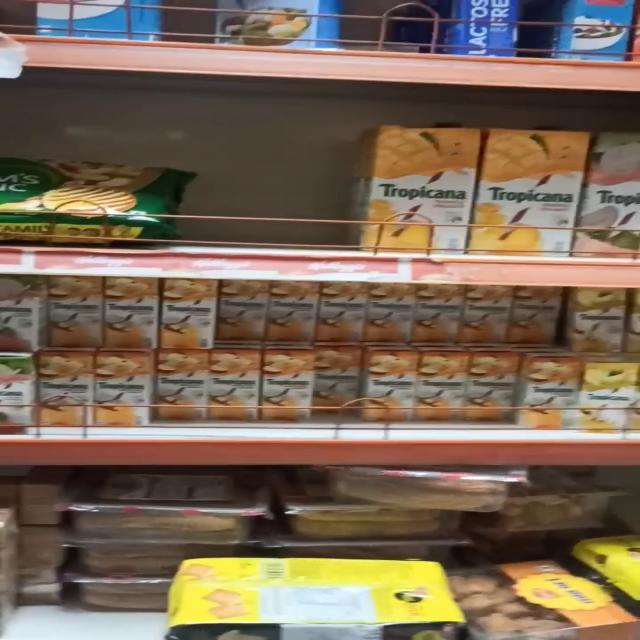Tropicana: (360, 119, 482, 254), (472, 118, 583, 262), (35, 352, 94, 426), (260, 276, 318, 348), (160, 277, 217, 349), (41, 278, 101, 344), (96, 353, 150, 426), (156, 352, 211, 422), (365, 348, 418, 419), (104, 278, 156, 350), (417, 350, 470, 420), (260, 354, 318, 416), (502, 286, 558, 349), (308, 348, 364, 411), (530, 358, 584, 423), (214, 277, 269, 340), (586, 361, 636, 428), (208, 349, 258, 416), (455, 282, 507, 346), (568, 287, 621, 349), (469, 353, 519, 417), (362, 282, 414, 341), (416, 282, 462, 342), (318, 281, 361, 339)
